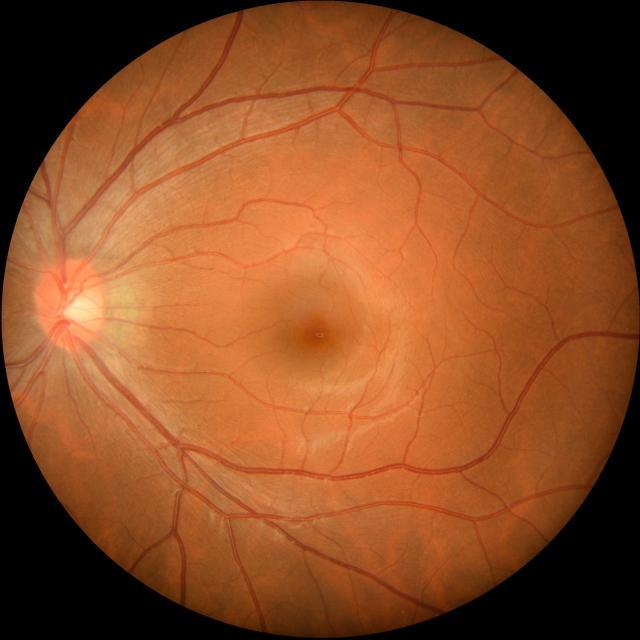OC: (58, 288, 92, 326)
OD: (34, 256, 102, 348)
